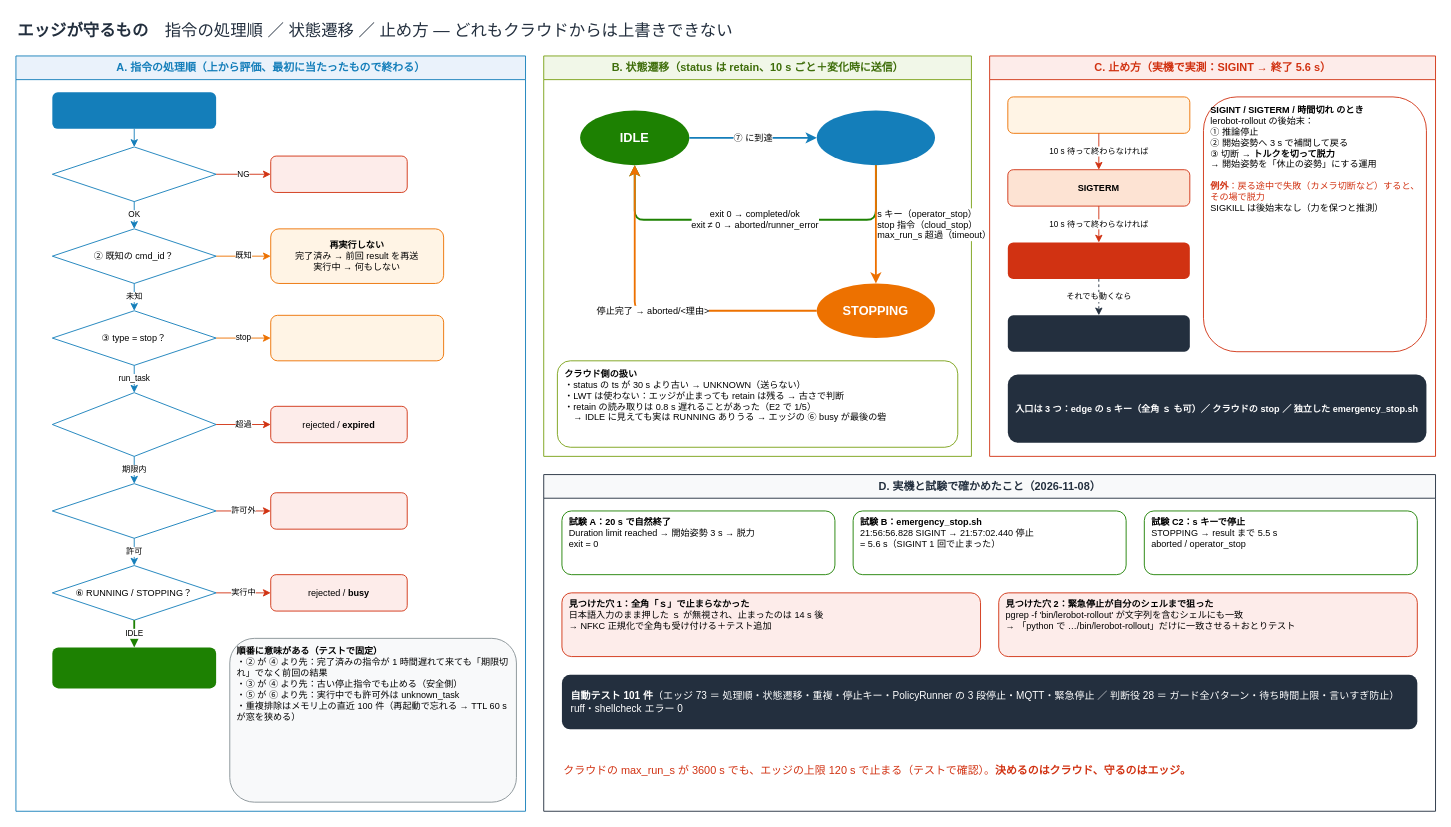
Some shapes in this 1451 by 827 pixel diagram are drawn without their labels. Here are the shapes that lost their labels. From the top down, the centre of each, then its label:
(x=134, y=110): cmd 受信 （MQTT5 QoS1） received_at を記録
(x=1098, y=114): SIGINT （lerobot-rollout 本体だけに）
(x=875, y=137): RUNNING
(x=133, y=174): ① 形が正しい？ v=1？
(x=338, y=173): rejected / invalid
(x=1098, y=260): SIGKILL （プロセスグループ全体）
(x=357, y=337): RUNNING なら止める（cloud_stop） IDLE なら無視 ／ TTL より先
(x=1098, y=333): 電源を切る （最終手段）
(x=133, y=424): ④ 期限切れ？ (now − issued_at > ttl_s)
(x=133, y=510): ⑤ 許可リスト内？
(x=338, y=510): rejected / unknown_task
(x=134, y=667): ⑦ 実行開始 max_run_s = min(指令, 120 s)
